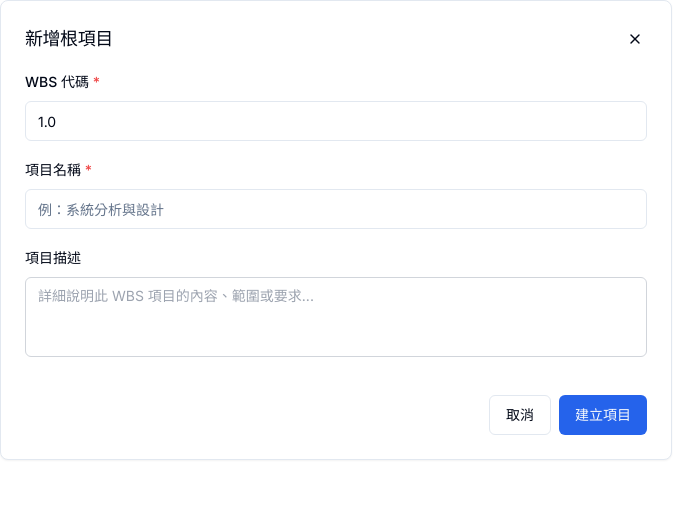
Test: WBSItemForm Component › Create Mode › should validate WBS code format
Replace the text in the field showing "1.0" with "invalid code with spaces!" at (336, 121), box [25,101,647,141]
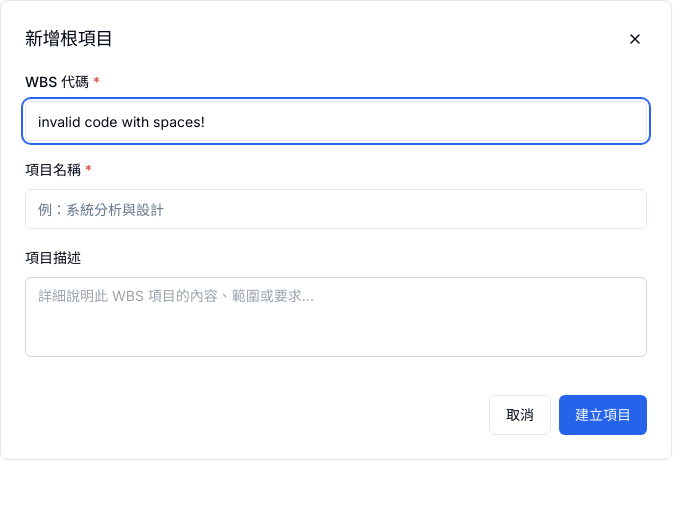
Type "測試項目" into the field labelled "項目名稱 *" at (336, 209), box [25,189,647,229]
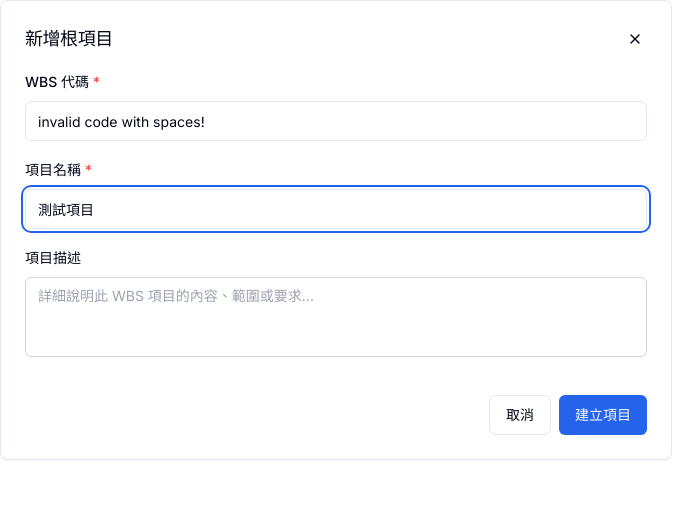
Click the button "建立項目" at (603, 415), box [559,395,647,435]
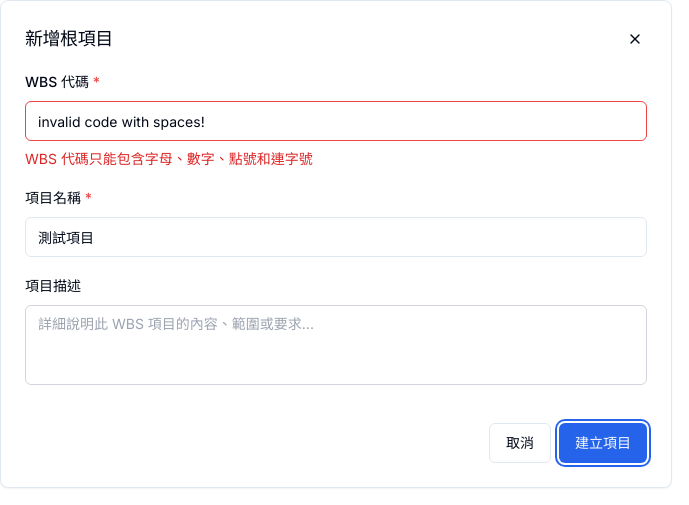
Expected: the text "WBS 代碼只能包含字母、數字、點號和連字號" is shown, [25,150,313,167]
